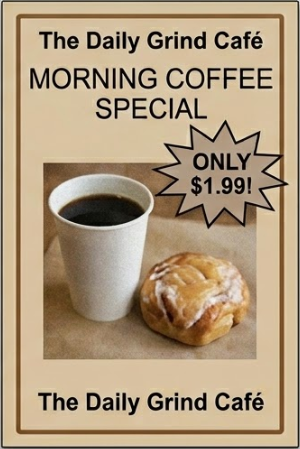Headline: (25, 67, 277, 121)
Price: (188, 148, 254, 197)
Product: (46, 176, 253, 342)
logo: (37, 27, 269, 57), (36, 393, 266, 415)
